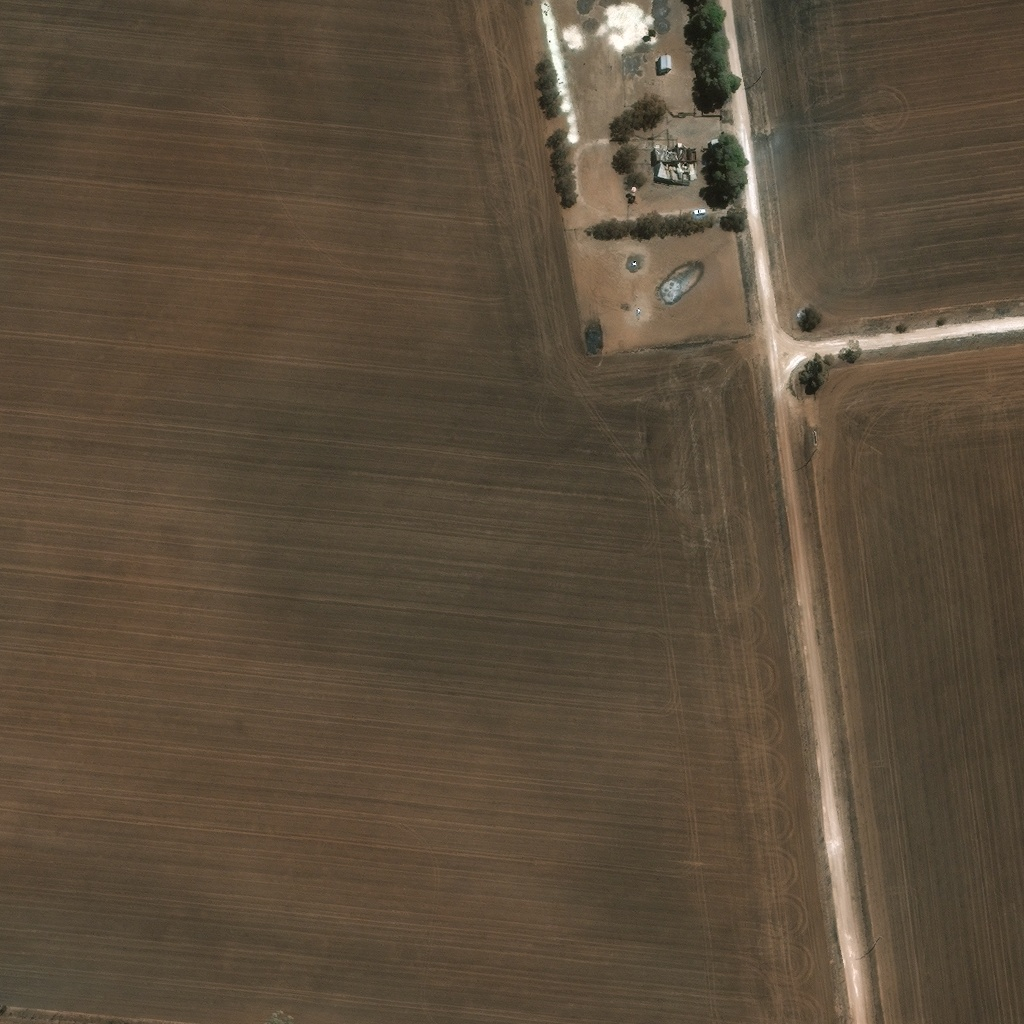0 no-damage: (655, 145, 696, 177), (660, 54, 671, 68), (711, 136, 726, 145)
